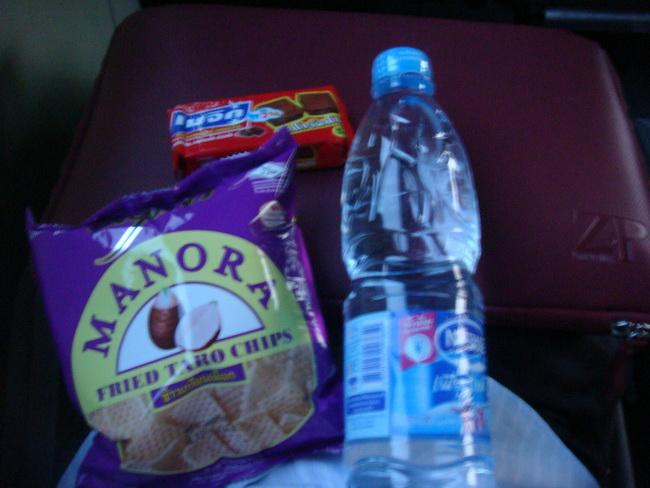bottle: (328, 34, 500, 488)
